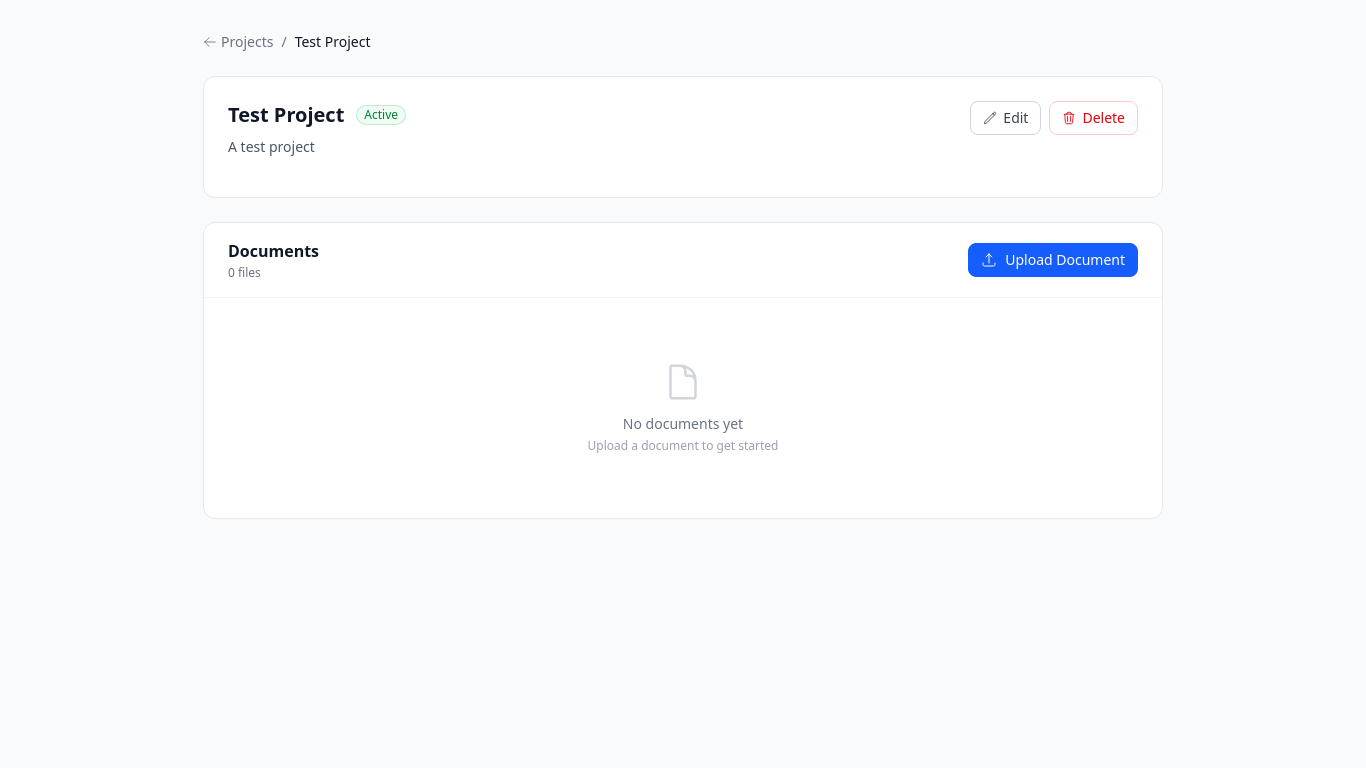
Test: ProjectDetailPage › opens upload modal when Upload button is clicked
The width and height of the screenshot is (1366, 768).
Click the button "Upload Document": (1053, 260) [968,243,1138,277]
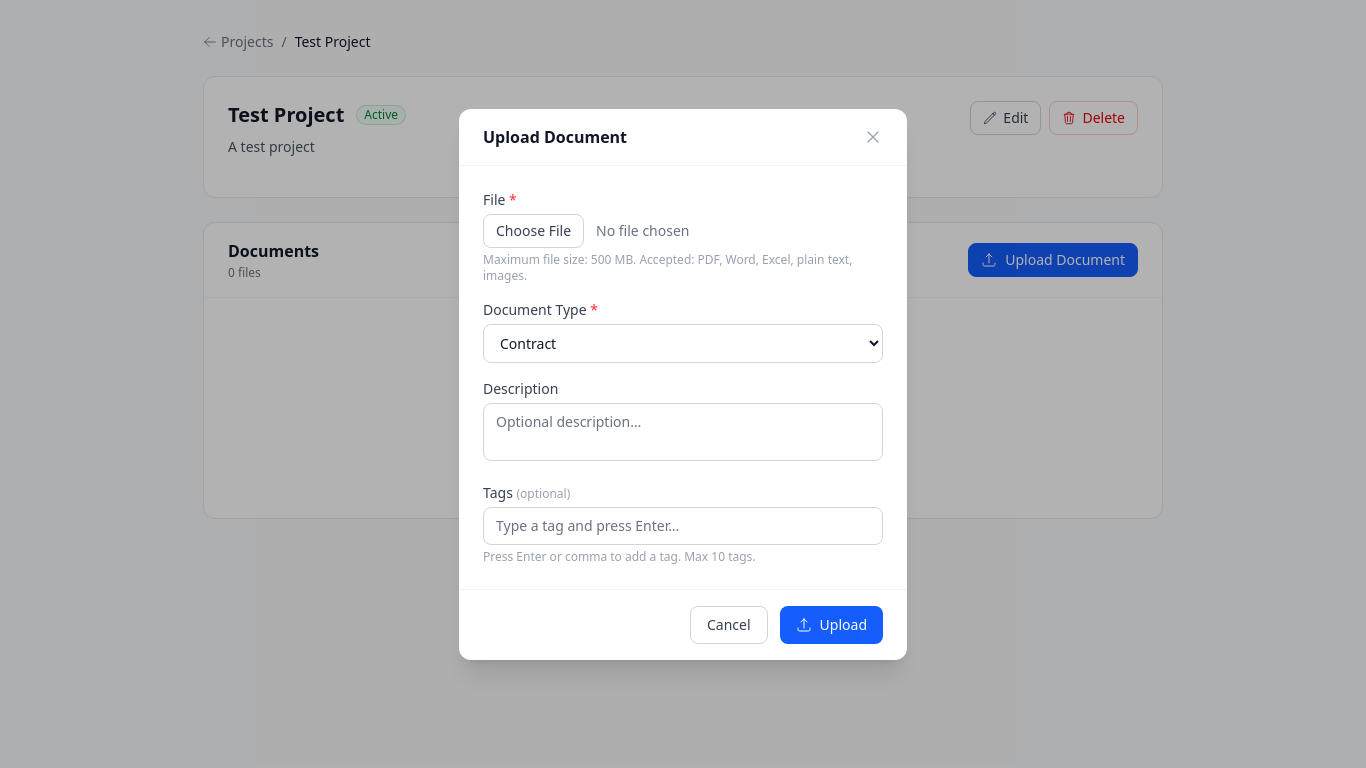
Expected: the dropdown labelled "Document Type *" is shown, [483,324,883,362]
